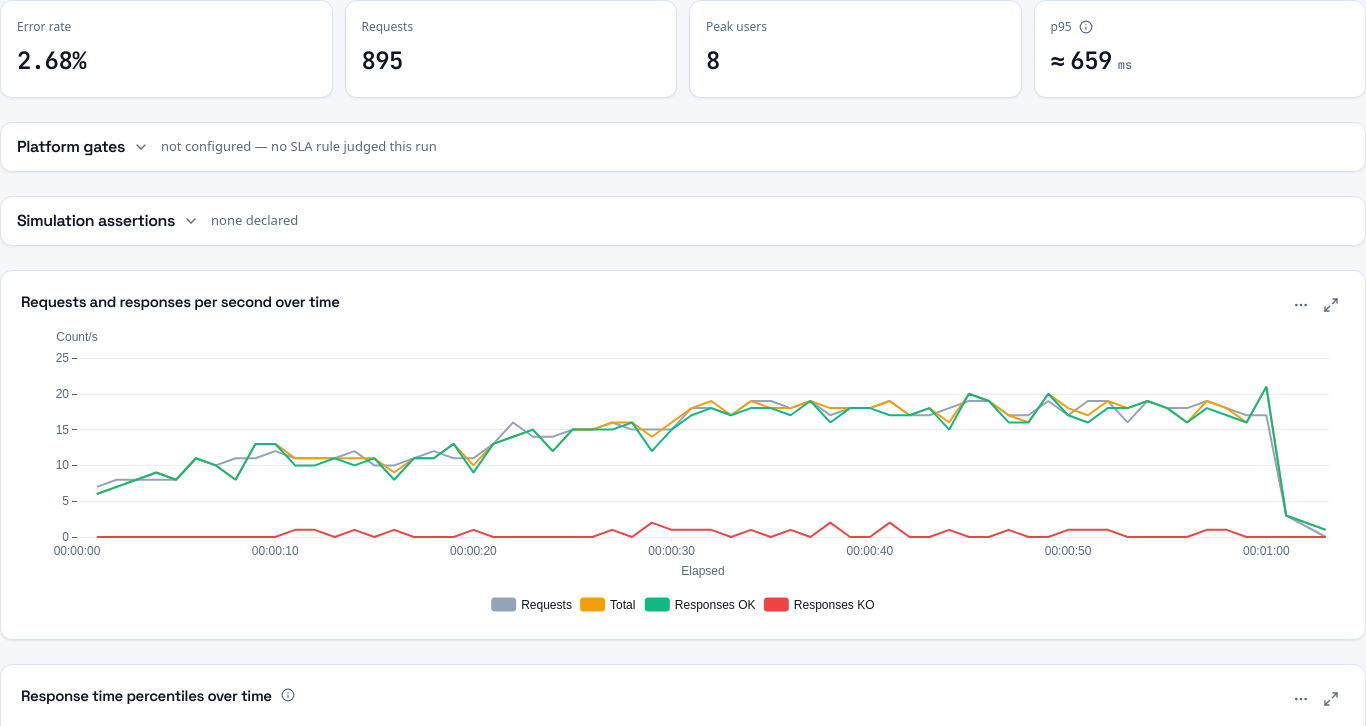
Test: RunSummary — the way to add a rule follows the run’s project access › tells a Viewer only that no rule judged the run
Click the button "Platform gates" at (83, 147), box x1=17 y1=135 x2=149 y2=159
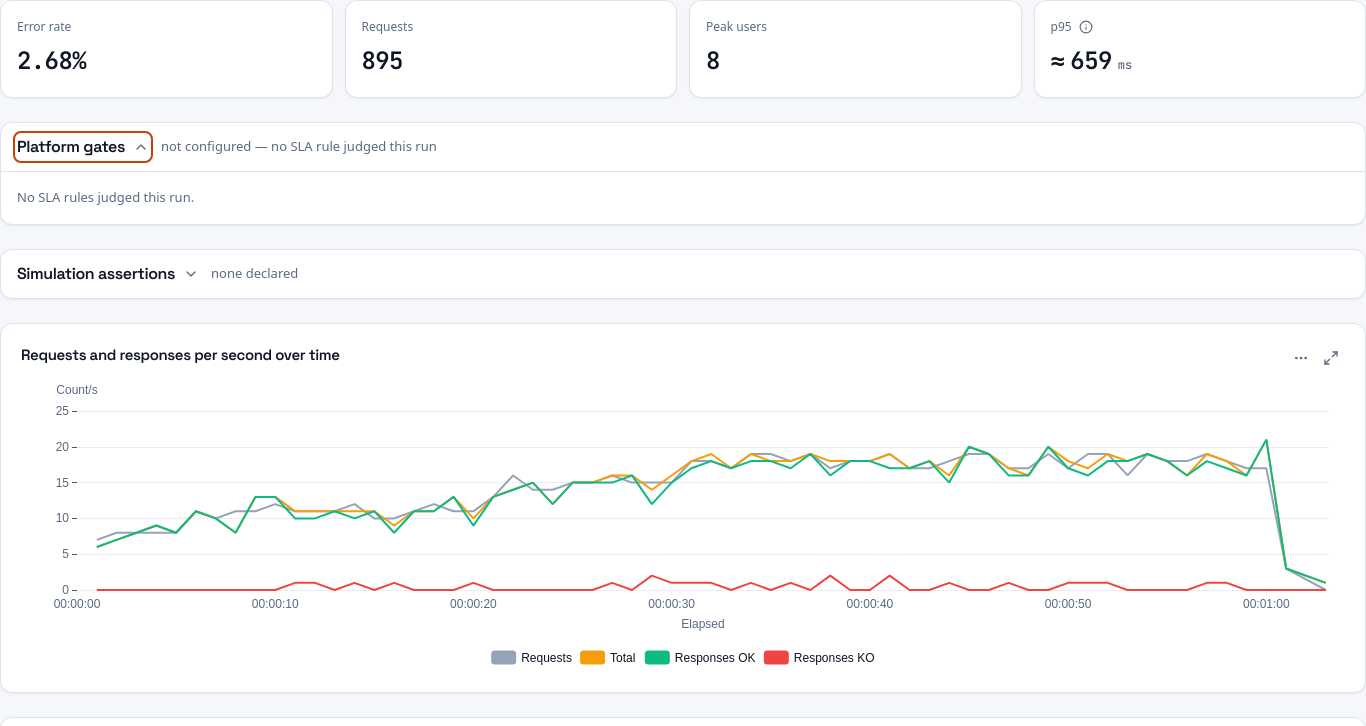
Expected: the text "No SLA rules judged this run." is shown, x1=17 y1=188 x2=194 y2=208
